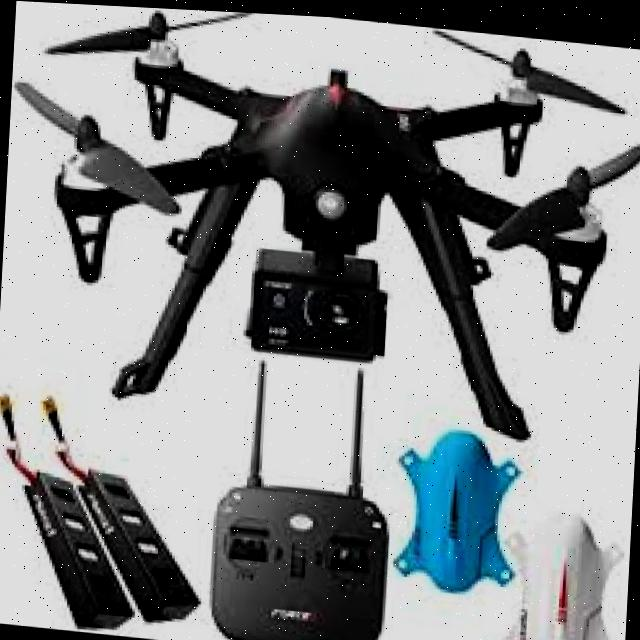drone: (0, 0, 640, 478)
